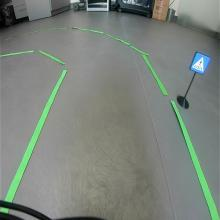crosswalk: (189, 51, 211, 75)
